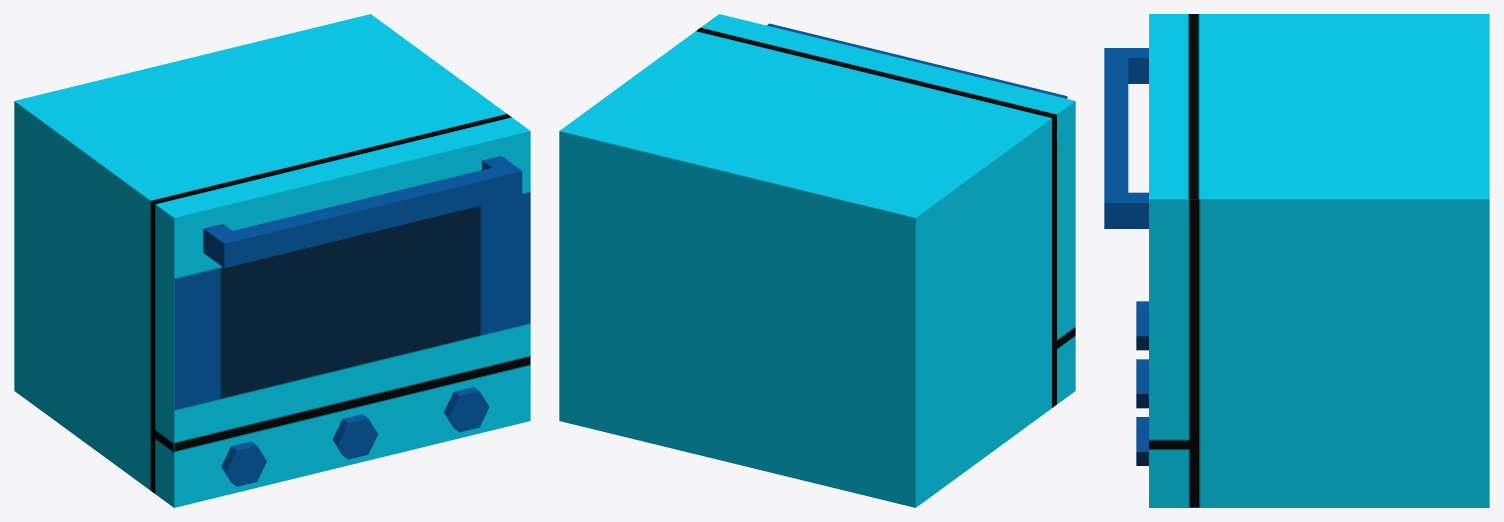
File: oven1_PLY.fbx
3 renders of one model, left to right at view 1: azimuth 30°, elevation 25°; view 2: azimuth 150°, elevation 25°; view 3: azimuth 270°, elevation 25°, orthographic. The views are drawn at different scales.
Parts seen in each view (by area): view 1: oven1_PLY; view 2: oven1_PLY; view 3: oven1_PLY.
Part boxes in pixels (bbox=[...]): oven1_PLY: bbox=[14, 14, 530, 507]; oven1_PLY: bbox=[559, 14, 1075, 507]; oven1_PLY: bbox=[1104, 14, 1489, 507].
Bounding box in the file's own units: 2.25 × 1.75 × 1.98.
